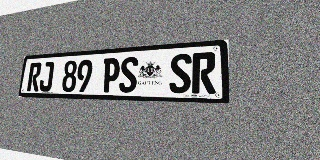8: (61, 60, 78, 92)
9: (75, 59, 93, 92)
J: (38, 61, 54, 92)
P: (101, 57, 120, 92)
R: (192, 52, 216, 94), (27, 62, 42, 91)
S: (169, 53, 192, 93), (118, 56, 138, 93)
